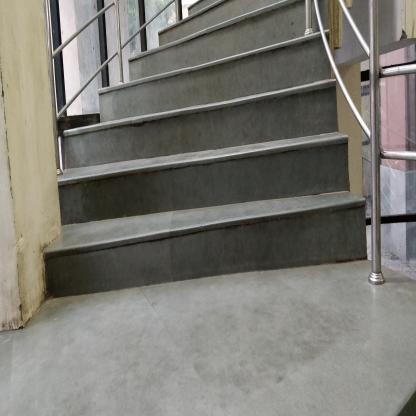stairs: (110, 93, 336, 297)
